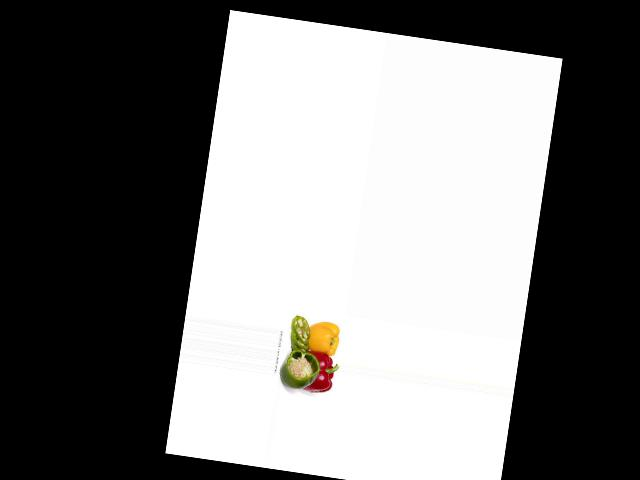bell_pepper: (280, 347, 323, 395)
